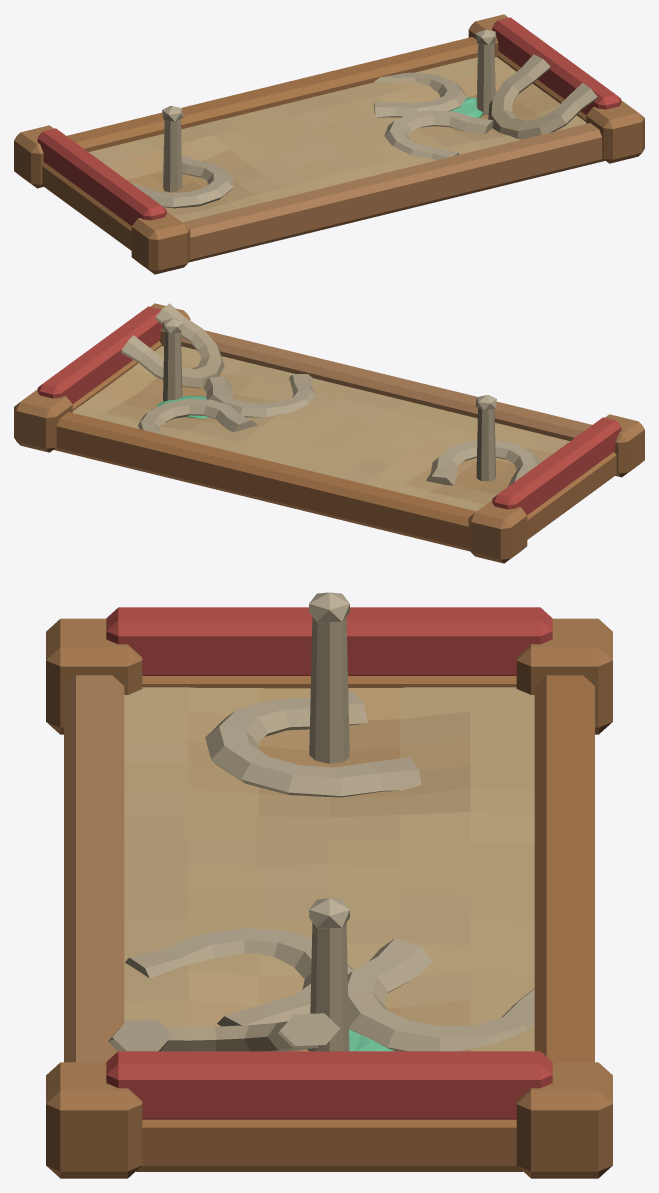
Rendered from ranch_horseshoe_pit.fbx.
The picture shows the model from 3 angles, top to bottom: view 1: azimuth 30°, elevation 25°; view 2: azimuth 150°, elevation 25°; view 3: azimuth 270°, elevation 25°; orthographic projection. The views are drawn at different scales.
Visible parts, largest first — view 1: ranch_horseshoe_pit; view 2: ranch_horseshoe_pit; view 3: ranch_horseshoe_pit.
Boxes of the visible parts, x1,y1,x2,y2 form: ranch_horseshoe_pit: [14, 14, 644, 274]; ranch_horseshoe_pit: [14, 303, 644, 563]; ranch_horseshoe_pit: [46, 592, 612, 1178].
Size of the model in its own units: 9.5 by 1.8 by 4.7.
